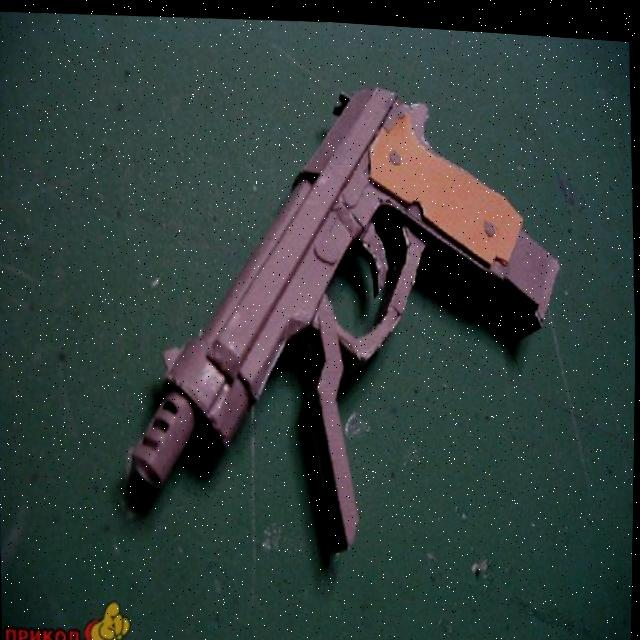pistol: (113, 57, 575, 574)
